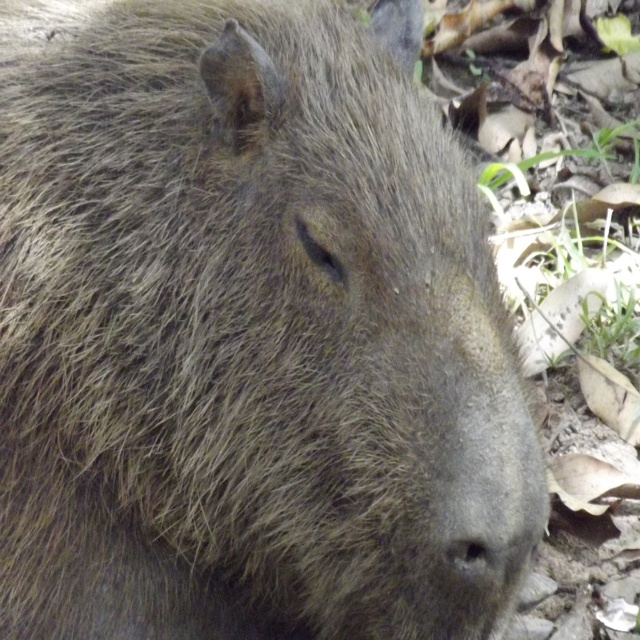Pig: (0, 0, 551, 640)
